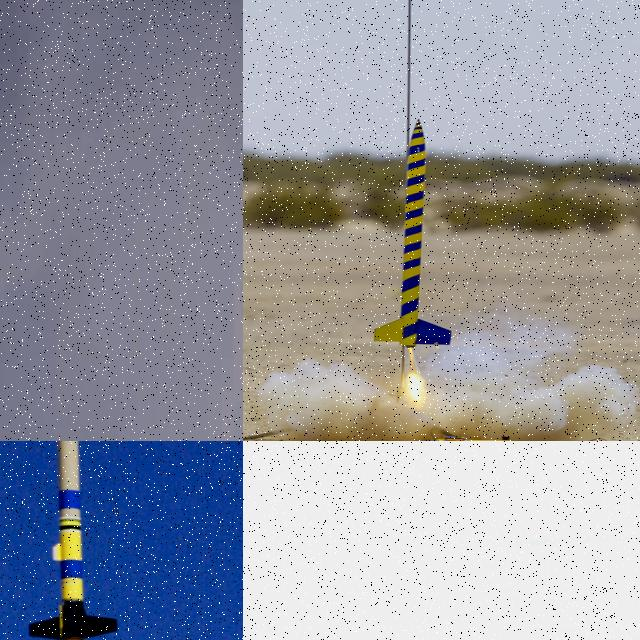Rocket: (23, 441, 122, 640), (372, 118, 454, 350)
